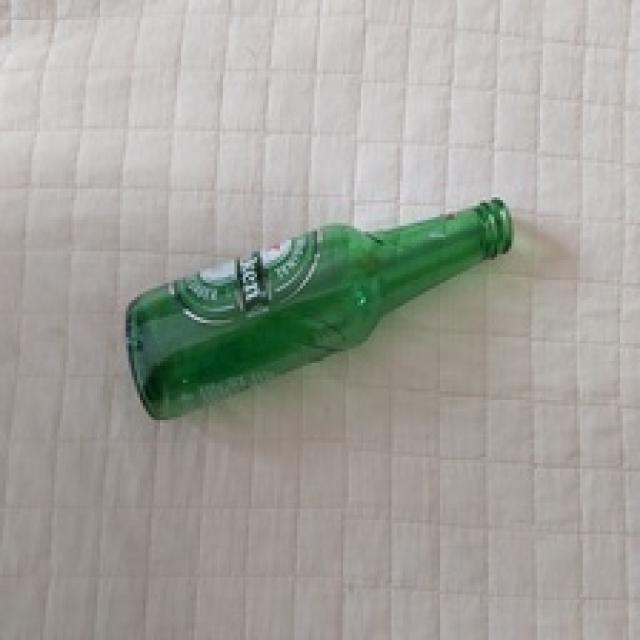Glass: (124, 198, 518, 421)
